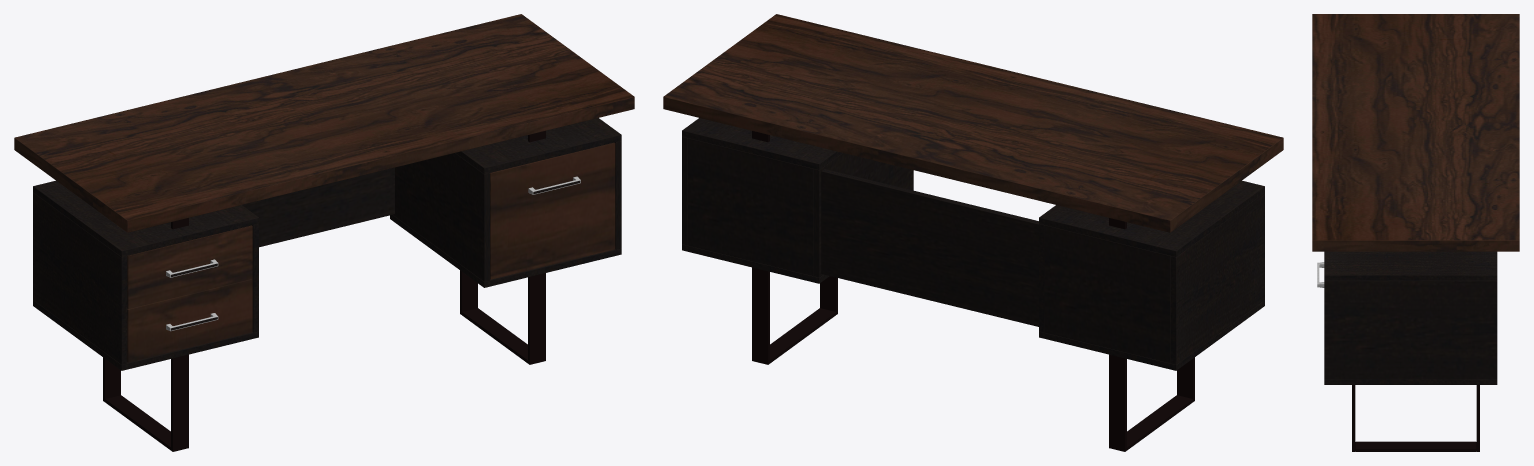
Rendered from table.glb.
3 views of the same model, side by side, from view 1: azimuth 30°, elevation 25°; view 2: azimuth 150°, elevation 25°; view 3: azimuth 270°, elevation 25° (orthographic). The views are drawn at different scales.
Visible parts, largest first — view 1: Box001, Box017, Box011, Box009, Box018, Box005, Box006, Box012, Box020, Box024, Box019, Box007 (+6 smaller); view 2: Box001, Box005, Box010, Box016, Box009, Box006, Box012, Box018, Box025, Box021, Box007, Box026 (+5 smaller); view 3: Box001, Box014, Box012, Box026, Box019, Box024, Box025.
Boxes of the visible parts, bbox=[...] form: Box001: bbox=[14, 14, 634, 232]; Box017: bbox=[490, 142, 615, 279]; Box011: bbox=[127, 225, 252, 362]; Box009: bbox=[33, 192, 127, 364]; Box018: bbox=[393, 153, 489, 281]; Box005: bbox=[242, 167, 394, 247]; Box006: bbox=[33, 180, 258, 256]; Box012: bbox=[455, 118, 621, 174]; Box020: bbox=[171, 218, 188, 451]; Box024: bbox=[528, 131, 545, 364]; Box019: bbox=[390, 215, 621, 287]; Box007: bbox=[33, 300, 258, 370]; Box001: bbox=[663, 14, 1283, 232]; Box005: bbox=[821, 169, 1038, 326]; Box010: bbox=[1044, 225, 1170, 363]; Box016: bbox=[688, 138, 813, 276]; Box009: bbox=[1170, 192, 1264, 364]; Box006: bbox=[1039, 180, 1264, 256]; Box012: bbox=[682, 118, 842, 169]; Box018: bbox=[813, 153, 913, 277]; Box025: bbox=[752, 131, 769, 364]; Box021: bbox=[1109, 218, 1126, 451]; Box007: bbox=[1039, 300, 1264, 370]; Box026: bbox=[770, 308, 836, 363]; Box001: bbox=[1312, 14, 1519, 251]; Box014: bbox=[1324, 280, 1497, 379]; Box012: bbox=[1324, 251, 1497, 280]; Box026: bbox=[1355, 441, 1476, 451]; Box019: bbox=[1324, 379, 1497, 384]; Box024: bbox=[1352, 385, 1355, 451]; Box025: bbox=[1476, 385, 1479, 451].
Bounding box in the file's own units: 1.55 × 0.77 × 0.6.
5 materials, 4 textured.
